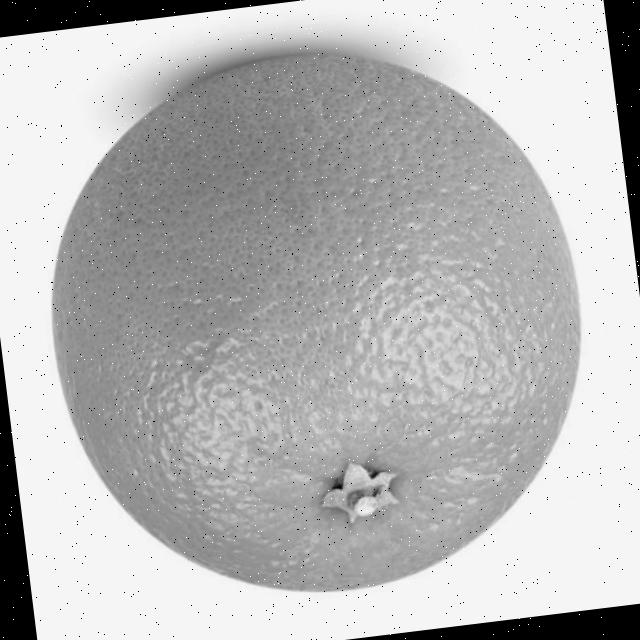Ripe: (18, 16, 613, 629)
